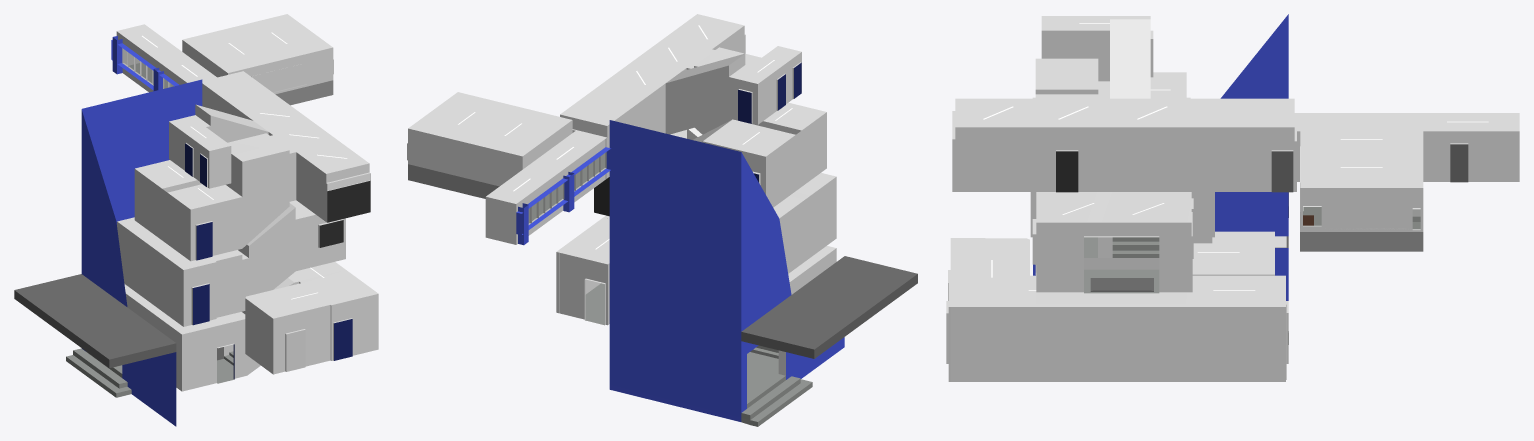
Rendered from model_bloco_c.glb.
3 views of the same model, side by side, from view 1: azimuth 30°, elevation 25°; view 2: azimuth 150°, elevation 25°; view 3: azimuth 270°, elevation 25° (orthographic). The views are drawn at different scales.
Visible parts, largest first — view 1: Bloco C; view 2: Bloco C; view 3: Bloco C, Tapete.
Part boxes in pixels (x1,y1,x2,y2): Bloco C: (14, 14, 378, 426); Bloco C: (407, 14, 917, 426); Bloco C: (946, 14, 1519, 381); Tapete: (1090, 278, 1153, 291).
Size of the model in its own units: 33.56 by 27.15 by 38.07.
